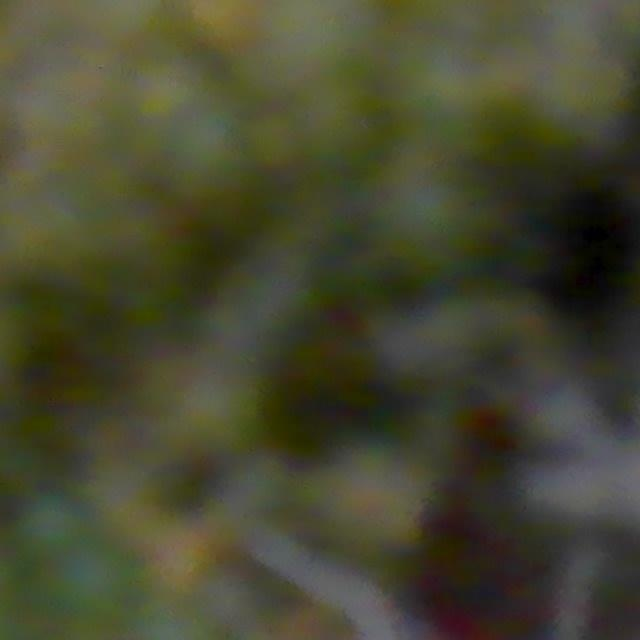SeaGrape: (16, 490, 91, 563)
